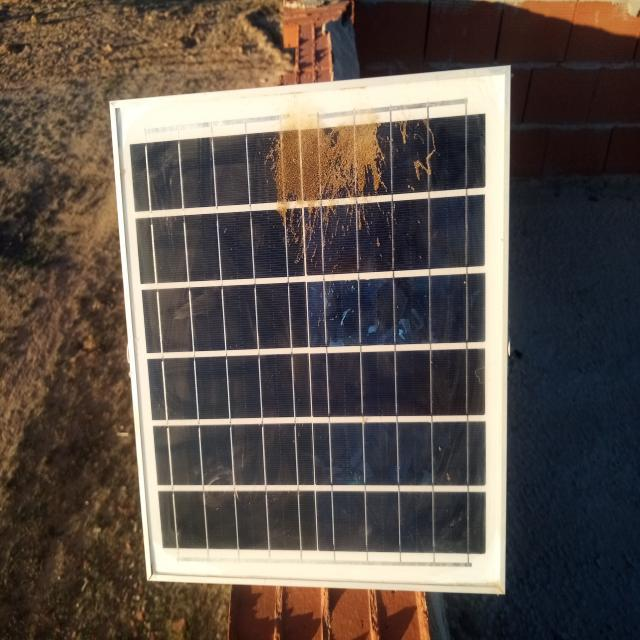faulty: (115, 68, 508, 585)
